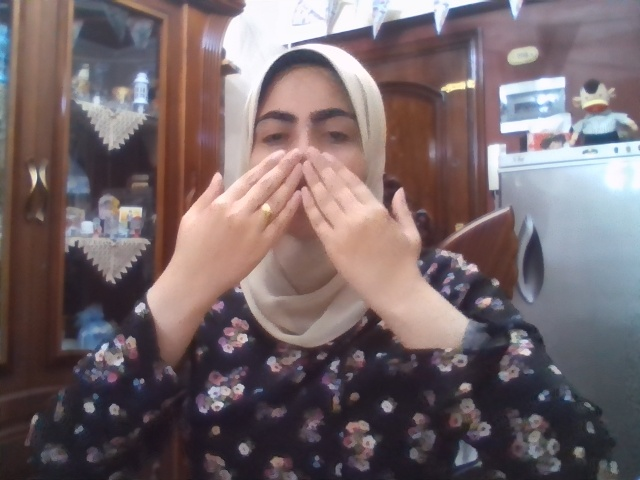thanks: (172, 149, 423, 300)
